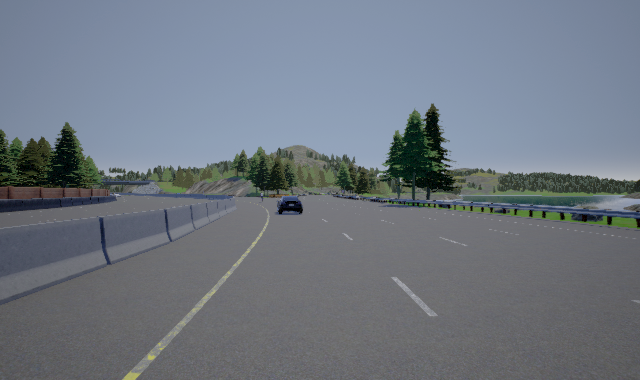vehicle: (276, 196, 303, 214)
